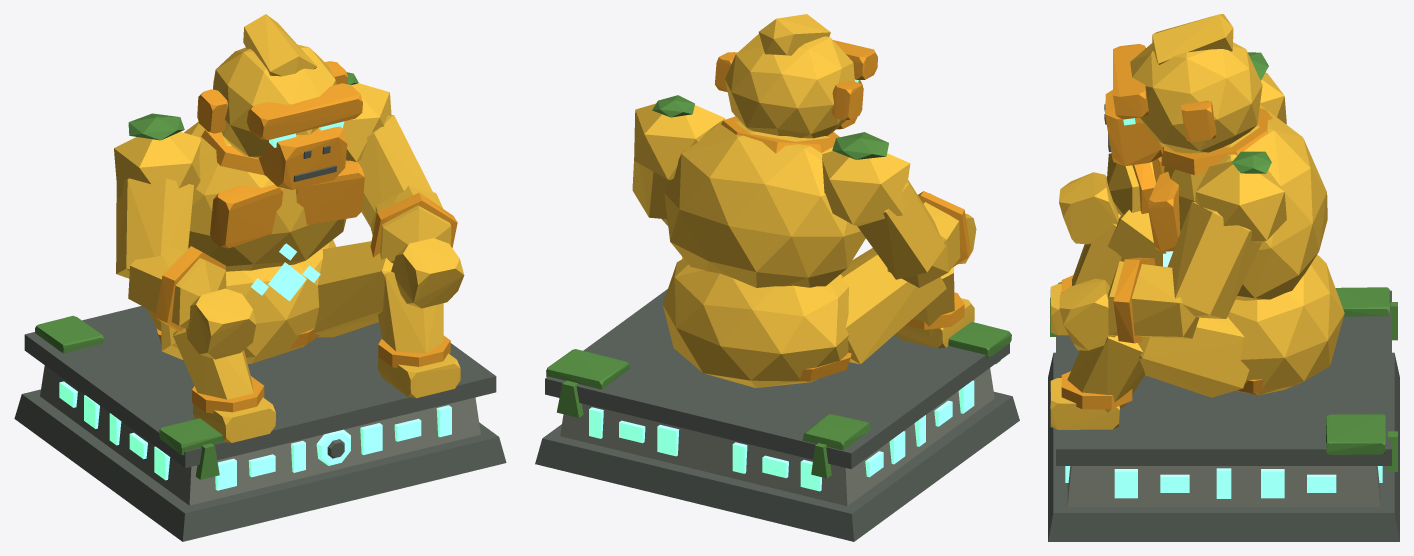
Rendered from Jungle_4_GoldenIdol.fbx.
3 views of the same model, side by side, from view 1: azimuth 30°, elevation 25°; view 2: azimuth 150°, elevation 25°; view 3: azimuth 270°, elevation 25° (orthographic). The views are drawn at different scales.
Parts seen in each view (by area): view 1: Jungle_4_GoldenIdol__Jungle_Gold, Jungle_4_GoldenIdol__Jungle_StoneDark, Jungle_4_GoldenIdol__Jungle_Flower2, Jungle_4_GoldenIdol__Jungle_Stone, Jungle_4_GoldenIdol__Neon_Jungle_Glyph, Jungle_4_GoldenIdol__Jungle_Moss; view 2: Jungle_4_GoldenIdol__Jungle_Gold, Jungle_4_GoldenIdol__Jungle_StoneDark, Jungle_4_GoldenIdol__Jungle_Stone, Jungle_4_GoldenIdol__Jungle_Moss, Jungle_4_GoldenIdol__Jungle_Flower2, Jungle_4_GoldenIdol__Neon_Jungle_Glyph; view 3: Jungle_4_GoldenIdol__Jungle_Gold, Jungle_4_GoldenIdol__Jungle_StoneDark, Jungle_4_GoldenIdol__Jungle_Flower2, Jungle_4_GoldenIdol__Jungle_Stone, Jungle_4_GoldenIdol__Jungle_Moss, Jungle_4_GoldenIdol__Neon_Jungle_Glyph.
Boxes of the visible parts, x1,y1,x2,y2 form: Jungle_4_GoldenIdol__Jungle_Gold: (114, 14, 464, 442); Jungle_4_GoldenIdol__Jungle_StoneDark: (14, 145, 506, 541); Jungle_4_GoldenIdol__Jungle_Flower2: (155, 61, 457, 413); Jungle_4_GoldenIdol__Jungle_Stone: (40, 365, 480, 505); Jungle_4_GoldenIdol__Neon_Jungle_Glyph: (59, 121, 451, 490); Jungle_4_GoldenIdol__Jungle_Moss: (35, 72, 358, 479); Jungle_4_GoldenIdol__Jungle_Gold: (632, 14, 976, 387); Jungle_4_GoldenIdol__Jungle_StoneDark: (535, 289, 1019, 541); Jungle_4_GoldenIdol__Jungle_Stone: (560, 368, 994, 506); Jungle_4_GoldenIdol__Jungle_Moss: (546, 95, 1011, 478); Jungle_4_GoldenIdol__Jungle_Flower2: (715, 40, 970, 381); Jungle_4_GoldenIdol__Neon_Jungle_Glyph: (589, 79, 974, 491); Jungle_4_GoldenIdol__Jungle_Gold: (1050, 14, 1344, 429); Jungle_4_GoldenIdol__Jungle_StoneDark: (1048, 104, 1399, 541); Jungle_4_GoldenIdol__Jungle_Flower2: (1061, 44, 1298, 409); Jungle_4_GoldenIdol__Jungle_Stone: (1067, 466, 1380, 507); Jungle_4_GoldenIdol__Jungle_Moss: (1050, 52, 1397, 471); Jungle_4_GoldenIdol__Neon_Jungle_Glyph: (1065, 118, 1382, 498).
Size of the model in its own units: 40 by 50.47 by 36.
